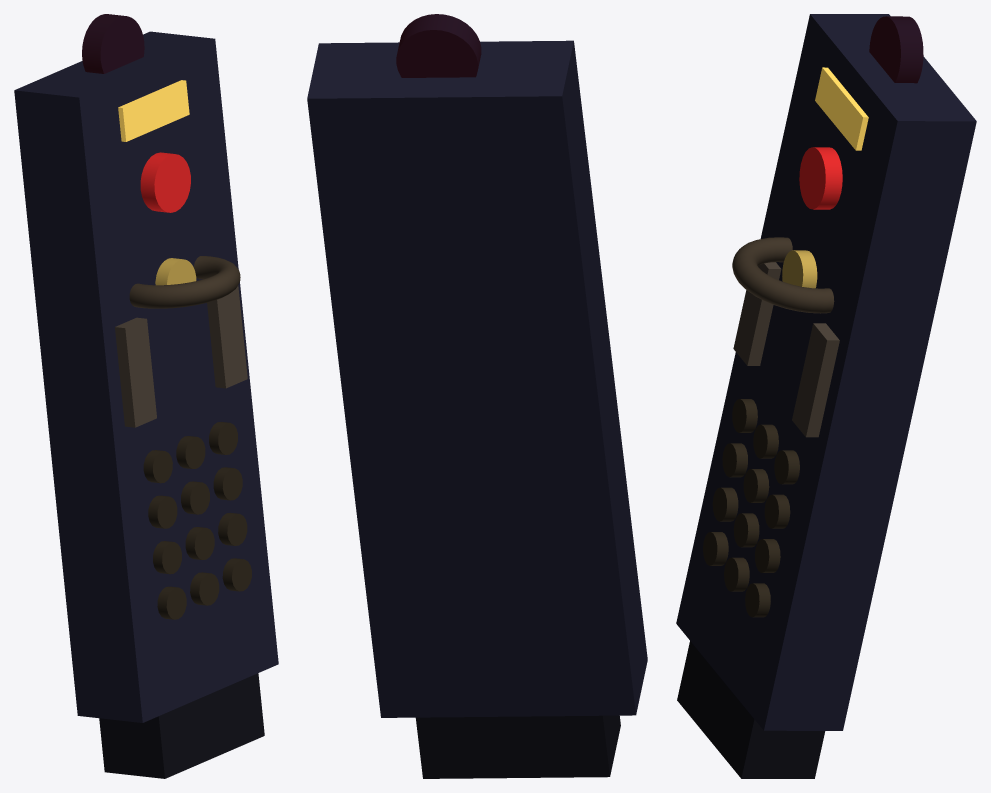
File: remote_control.glb
3 renders of one model, left to right at view 1: azimuth 30°, elevation 25°; view 2: azimuth 150°, elevation 25°; view 3: azimuth 270°, elevation 25°, orthographic. The views are drawn at different scales.
Bounding box in the file's own units: 0.8001 × 2.6 × 0.9644.
